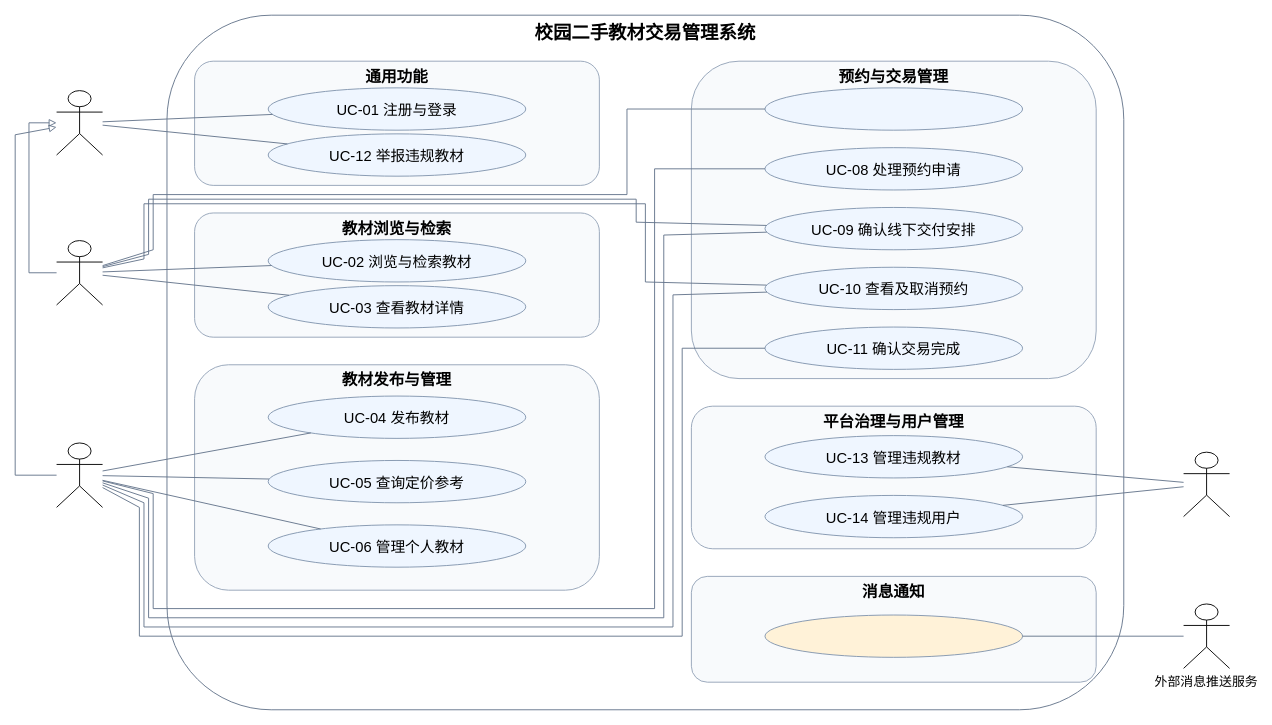
This 1272x725 diagram has some shape labels left out. Each missing label, with the centre of its shape:
"UC-07 发起购买预约" belongs at (893,108).
"UC-15 发送业务通知" belongs at (893,635).
"买家" belongs at (79,272).
"卖家" belongs at (79,474).
"学生" belongs at (79,122).
"平台管理员" belongs at (1206,484).
